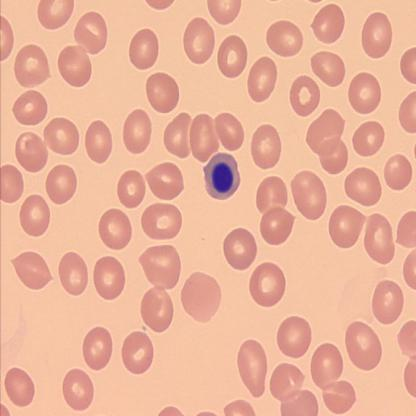NRC: (201, 150, 242, 201)
